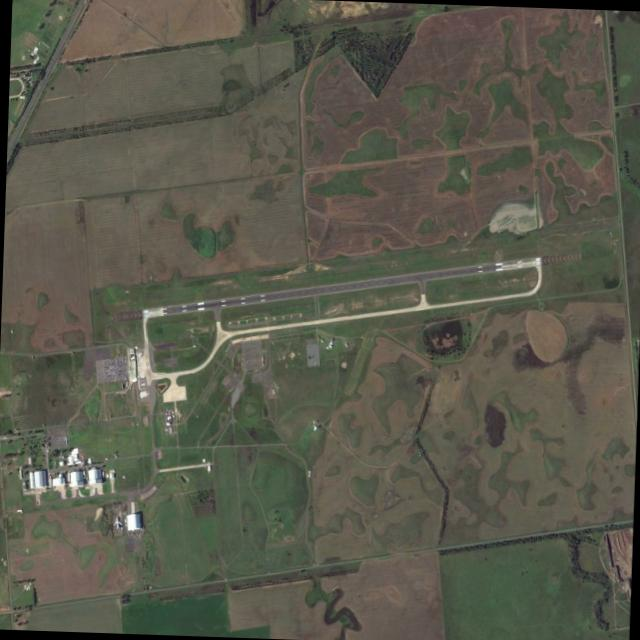plane: (111, 516, 122, 528)
